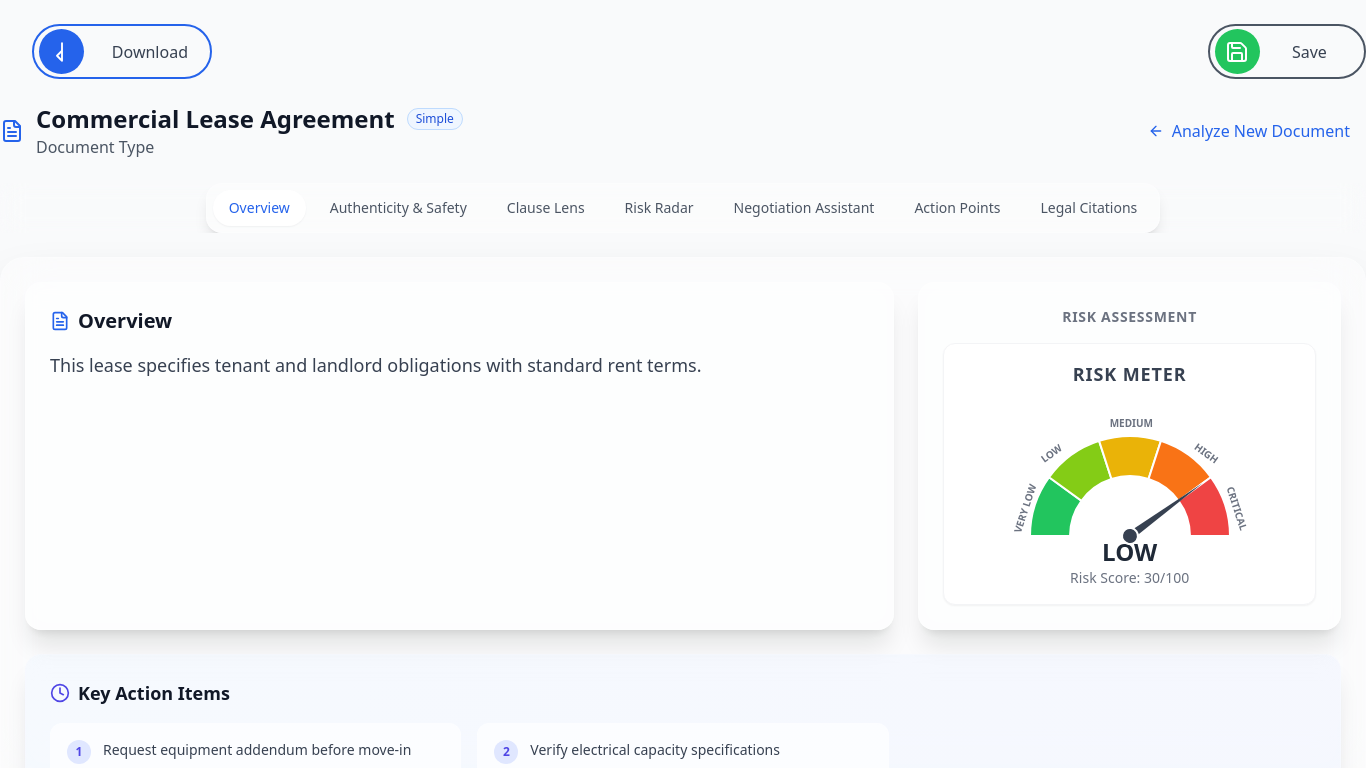
Test: AnalysisResults Component › allows expanding and collapsing clauses to view role perspectives
// Switch to Clause Lens tab
What coordinates should you click on to do the following:
click the button "Clause Lens"
I would click on:
 (546, 208)
Its box is [491, 190, 601, 226].
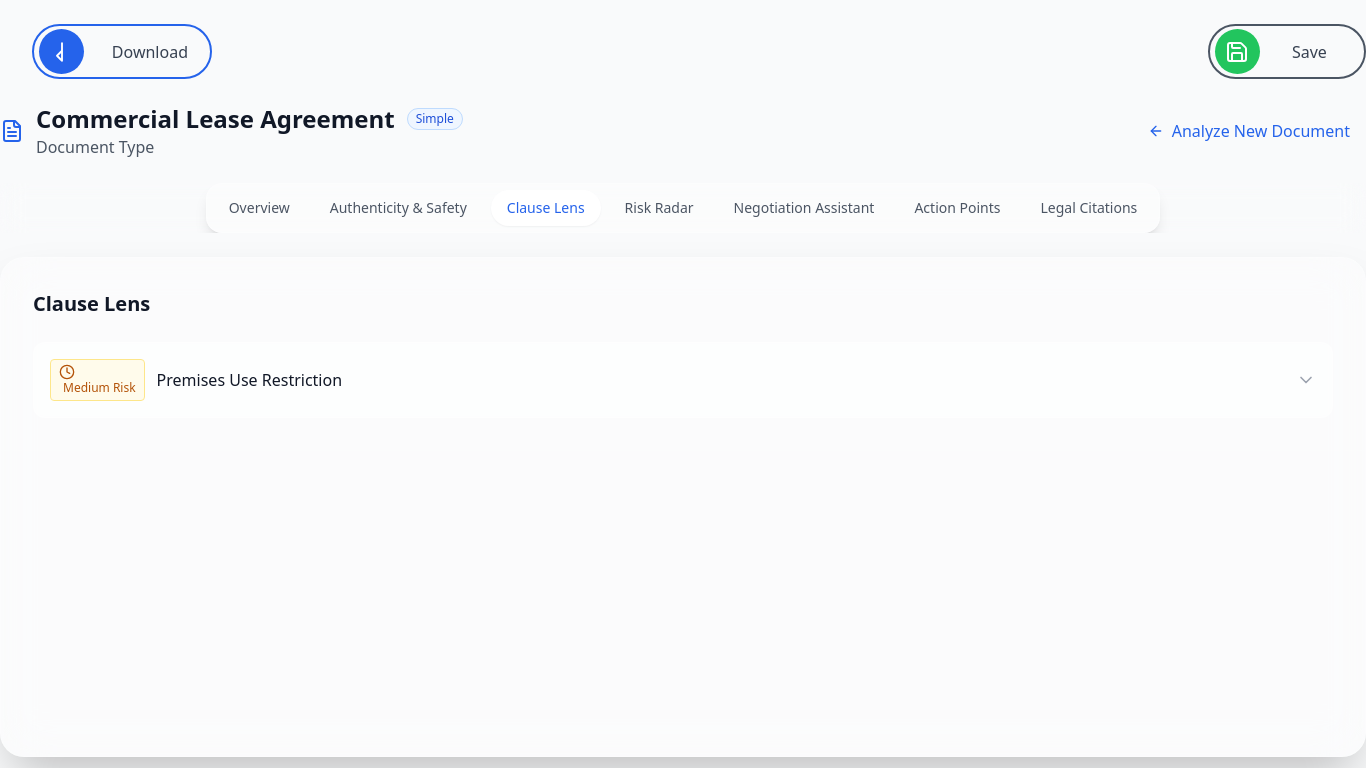
Check: the text "Premises Use Restriction" is shown
// Click clause to toggle expansion
What coordinates should you click on to do the following:
click the text "Premises Use Restriction"
I would click on:
 (249, 380)
Its box is [157, 368, 342, 392].
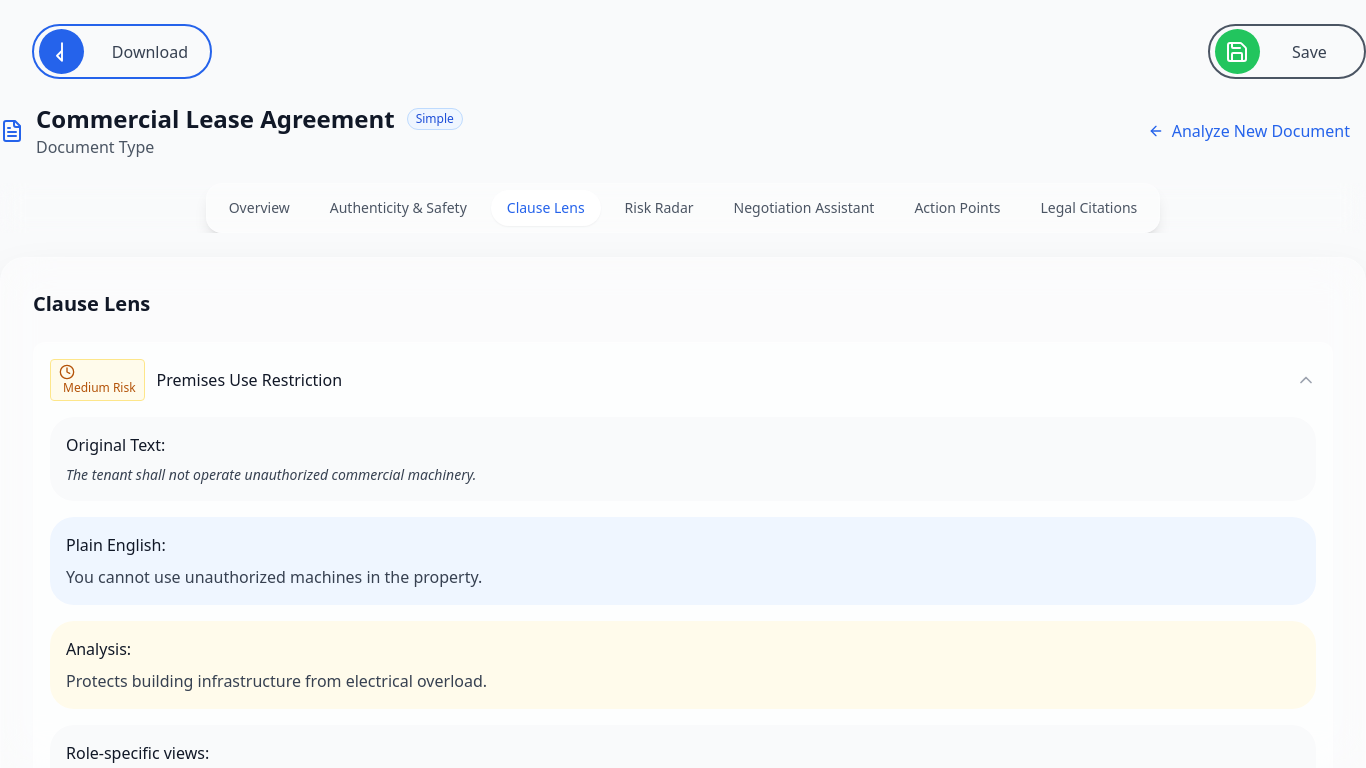
Check: the text "You cannot use unauthorized machines in the property." is shown, box [66, 566, 482, 588]
